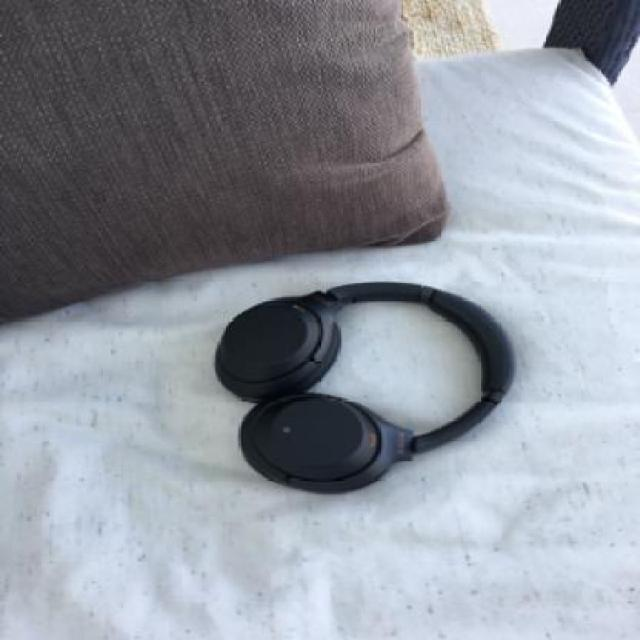earphone: (202, 217, 582, 563)
